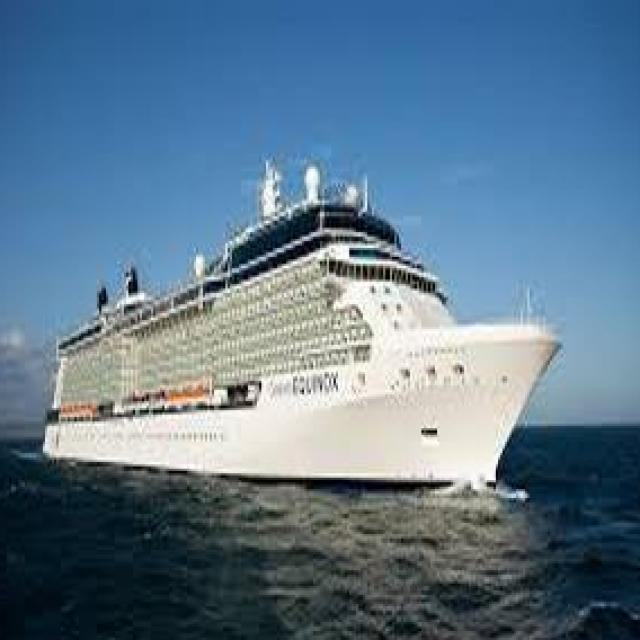passenger ship: (38, 195, 562, 487)
